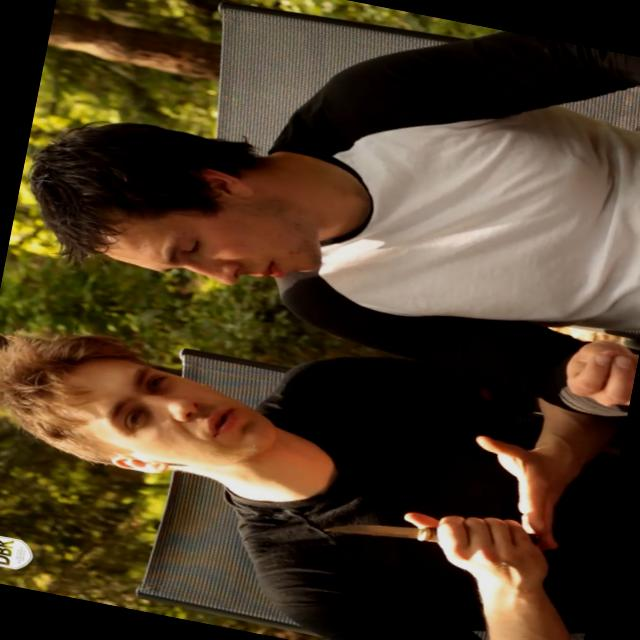knife: (302, 479, 496, 579)
